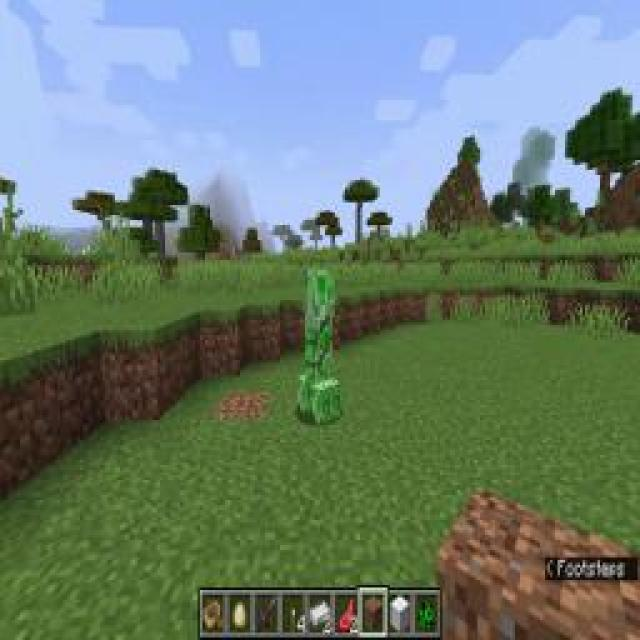Creeper: (296, 262, 344, 432)
